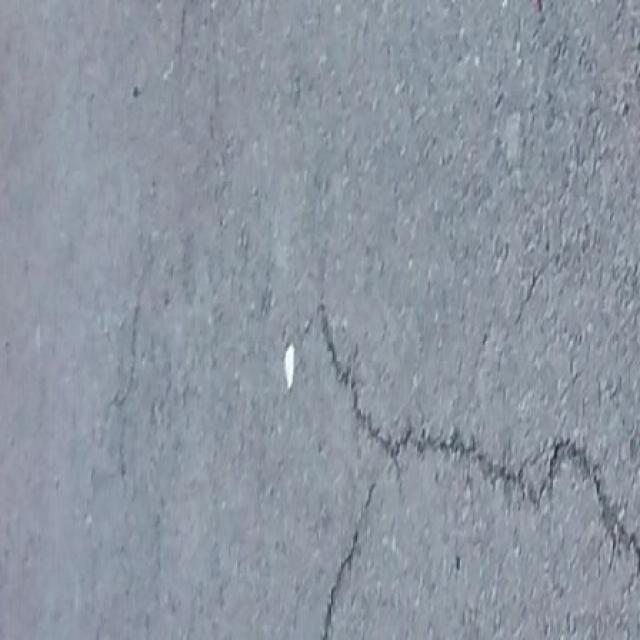Diagonal Crack: (309, 227, 640, 640), (90, 281, 145, 491)
